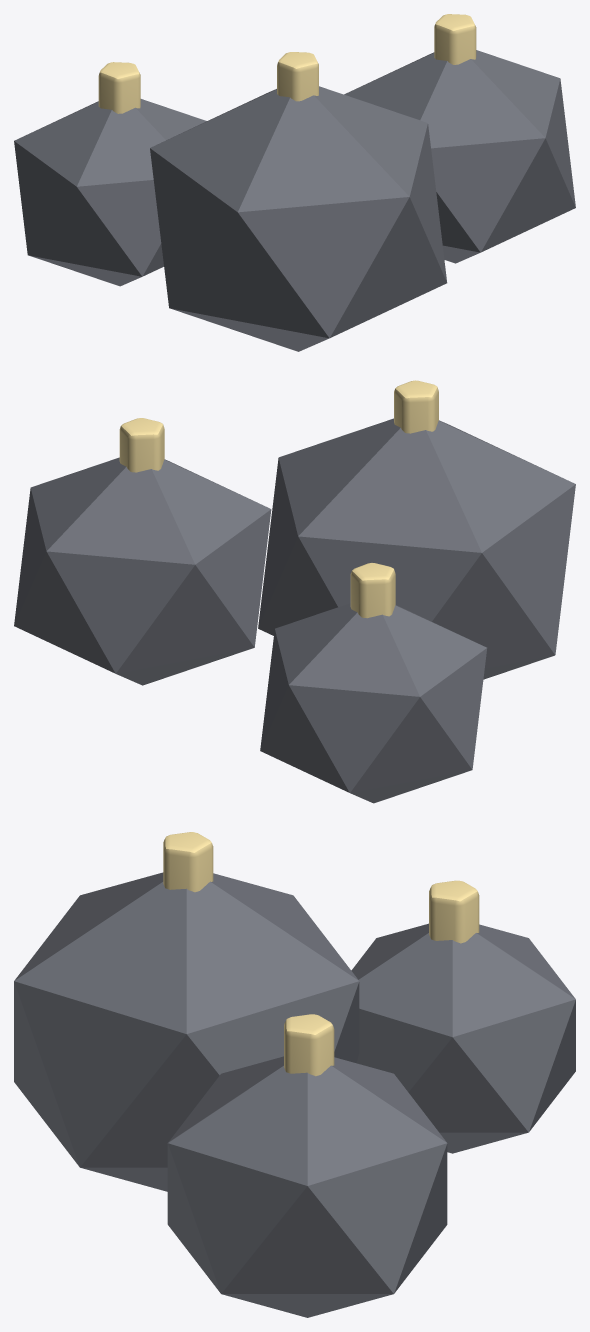
Rendered from TrashBags.fbx.
The picture shows the model from 3 angles, top to bottom: view 1: azimuth 30°, elevation 25°; view 2: azimuth 150°, elevation 25°; view 3: azimuth 270°, elevation 25°; orthographic projection. The views are drawn at different scales.
Visible parts, largest first — view 1: TrashBags; view 2: TrashBags; view 3: TrashBags.
Part boxes in pixels (left/top/right/bottom): TrashBags: left=14, top=14, right=575, bottom=351; TrashBags: left=14, top=380, right=575, bottom=803; TrashBags: left=14, top=832, right=575, bottom=1317.
Bounding box in the file's own units: 1.37 × 0.815 × 1.16.
